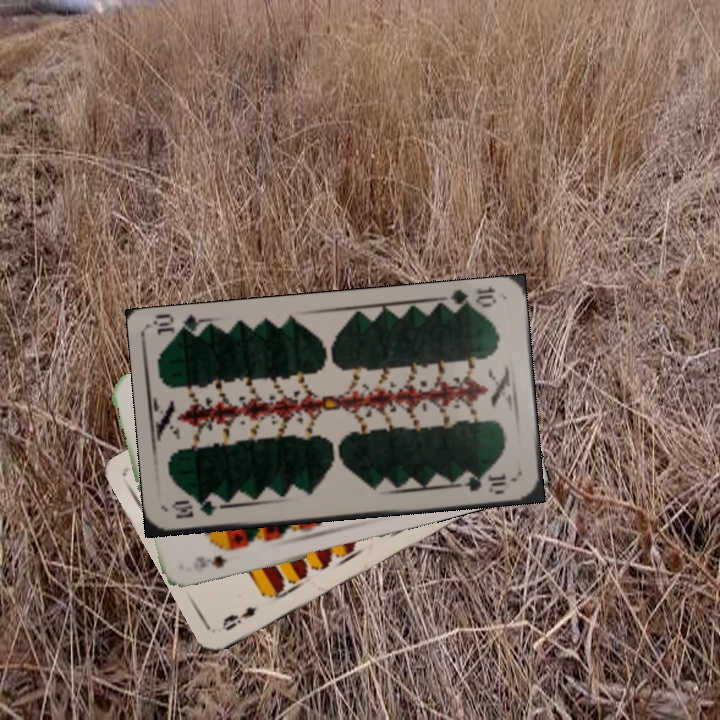E9: (217, 602, 259, 634)
G10: (441, 284, 499, 315), (168, 494, 228, 522)
S9: (188, 551, 230, 576)
